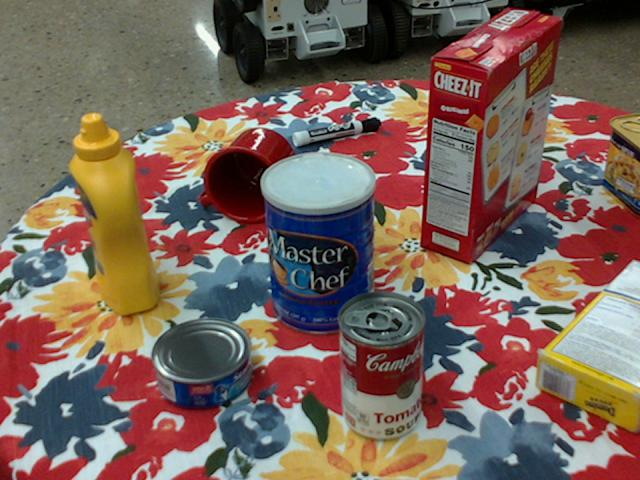cracker_box: (424, 10, 562, 263)
gelatin_box: (452, 112, 517, 161)
large_marker: (291, 115, 379, 145)
master_chef_can: (260, 151, 374, 335)
mug: (199, 127, 294, 224)
mustard_bottle: (69, 114, 160, 315)
potted_meat_can: (602, 112, 639, 215)
sugar_box: (536, 260, 639, 431)
tomato_soup_can: (337, 290, 425, 440)
tuna_fish_can: (148, 317, 250, 408)
